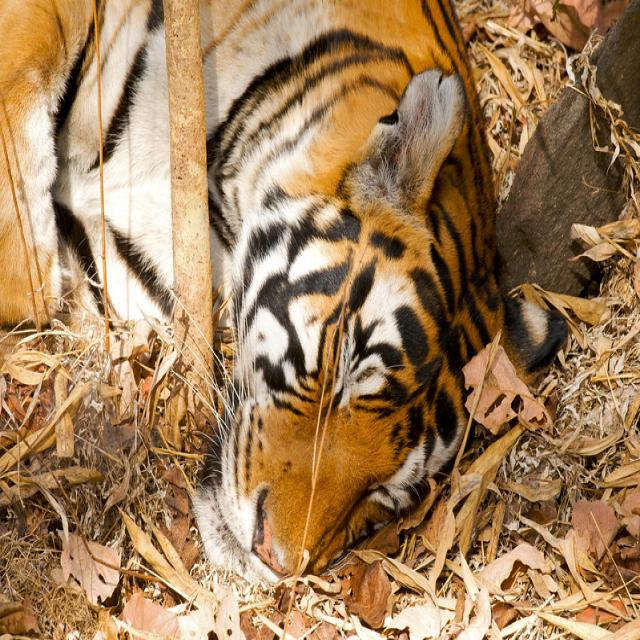Tiger: (5, 0, 517, 570)
